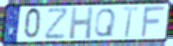0: (23, 7, 43, 42)
F: (139, 5, 167, 39)
H: (68, 5, 95, 40)
Q: (93, 7, 117, 38)
T: (122, 5, 139, 39)
Z: (44, 6, 70, 41)
